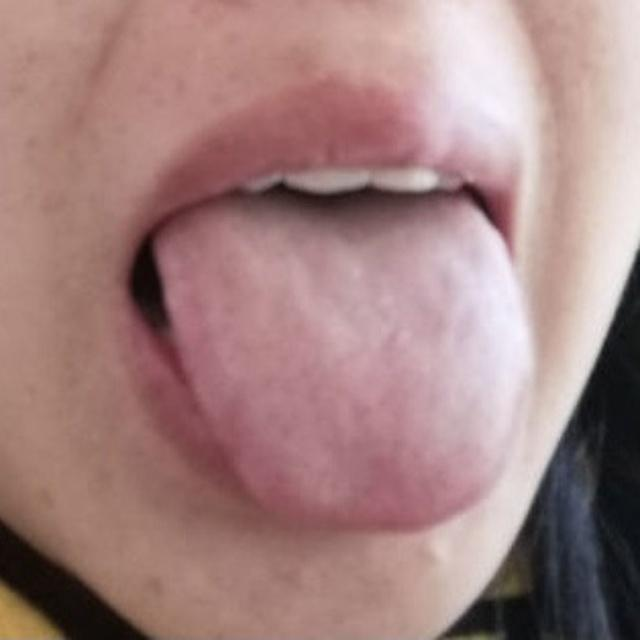baitaishe: (152, 197, 536, 532)
pangdashe: (152, 196, 536, 531)
